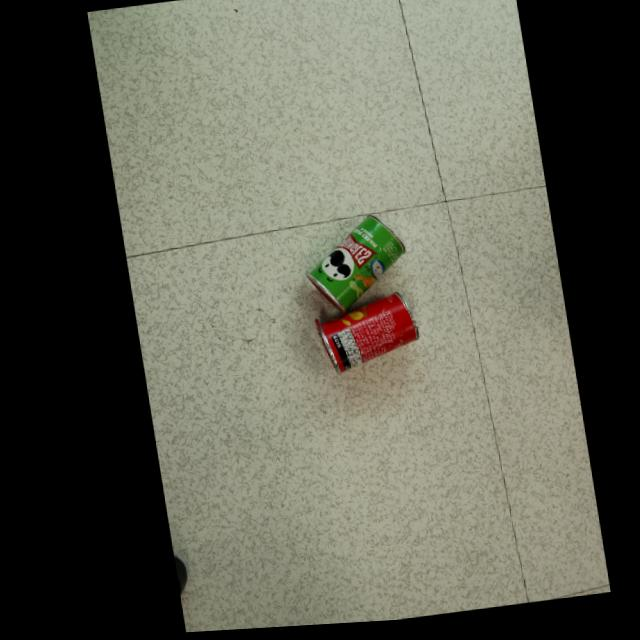canSnack: (300, 218, 399, 315), (308, 296, 411, 376)
